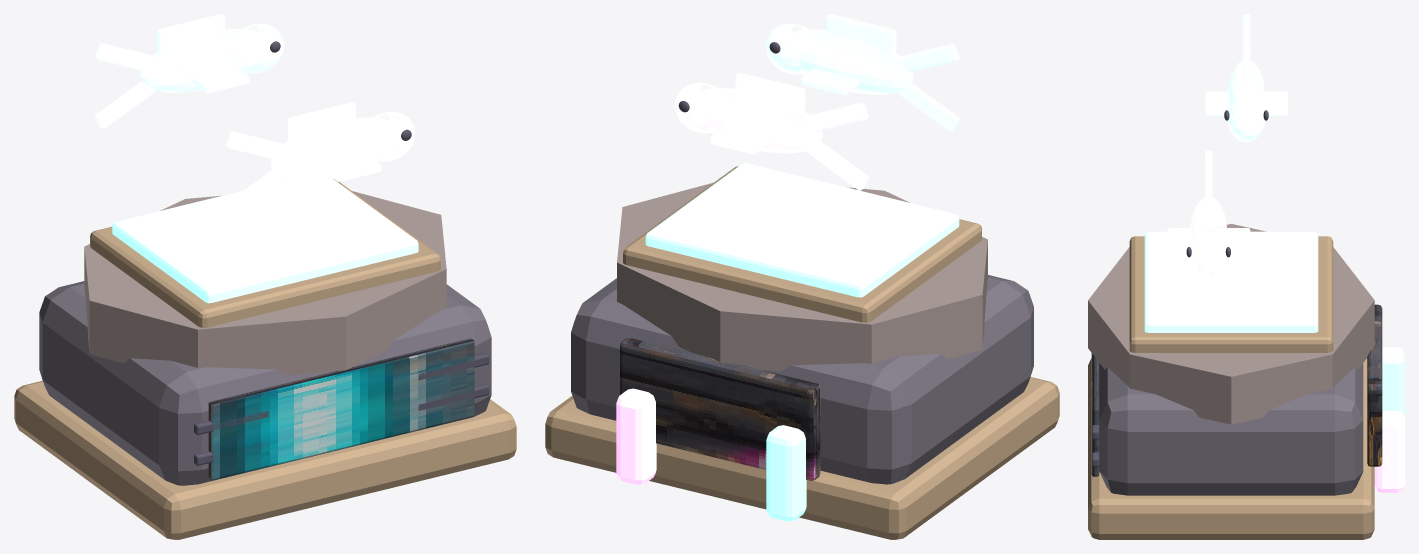
The picture shows the model from 3 angles, left to right: view 1: azimuth 30°, elevation 25°; view 2: azimuth 150°, elevation 25°; view 3: azimuth 270°, elevation 25°; orthographic projection. The views are drawn at different scales.
Parts seen in each view (by area): view 1: bottom brass plinth, octagonal emitter crown, emitter body, projection aperture, front generated paint, top ring, koi body.001, koi body, round koi head, round koi head.001, dorsal fin, dorsal fin.001 (+6 smaller); view 2: emitter body, octagonal emitter crown, projection aperture, bottom brass plinth, back service hatch, top ring, koi body.001, koi body, rear coupling, rear coupling.001, round koi head, round koi head.001 (+8 smaller); view 3: emitter body, octagonal emitter crown, projection aperture, bottom brass plinth, top ring, back service hatch, rear coupling.001, koi body.001, koi body, rear coupling, round koi head, round koi head.001 (+6 smaller).
Part boxes in pixels (box(x1,y1,x2,y2)): bottom brass plinth: box(14, 381, 516, 539); octagonal emitter crown: box(84, 191, 446, 375); emitter body: box(39, 281, 491, 485); projection aperture: box(112, 178, 418, 303); front generated paint: box(208, 338, 474, 479); top ring: box(90, 178, 440, 327); koi body.001: box(270, 117, 401, 181); koi body: box(139, 29, 270, 92); round koi head: box(230, 23, 284, 73); round koi head.001: box(361, 112, 415, 161); dorsal fin: box(157, 14, 225, 53); dorsal fin.001: box(288, 102, 356, 141); emitter body: box(571, 275, 1033, 484); octagonal emitter crown: box(617, 182, 987, 371); projection aperture: box(645, 163, 959, 297); bottom brass plinth: box(545, 377, 1059, 539); back service hatch: box(620, 337, 820, 480); top ring: box(623, 166, 981, 322); koi body.001: box(689, 88, 822, 153); koi body: box(780, 29, 913, 94); rear coupling: box(766, 425, 806, 521); rear coupling.001: box(616, 388, 656, 484); round koi head: box(765, 23, 821, 74); round koi head.001: box(674, 82, 730, 133); emitter body: box(1099, 363, 1363, 495); octagonal emitter crown: box(1088, 224, 1374, 424); projection aperture: box(1144, 231, 1318, 332); bottom brass plinth: box(1088, 358, 1374, 539); top ring: box(1129, 236, 1333, 352); back service hatch: box(1367, 304, 1382, 466); rear coupling.001: box(1374, 411, 1404, 492); koi body.001: box(1190, 197, 1227, 269); koi body: box(1227, 60, 1265, 132); rear coupling: box(1382, 347, 1404, 417); round koi head: box(1228, 96, 1264, 142); round koi head.001: box(1190, 233, 1227, 278).
Bounding box in the file's own units: 48 × 57 × 42.
10 materials, 2 textured.
